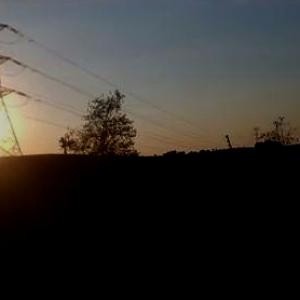follow: (102, 160, 169, 299)
